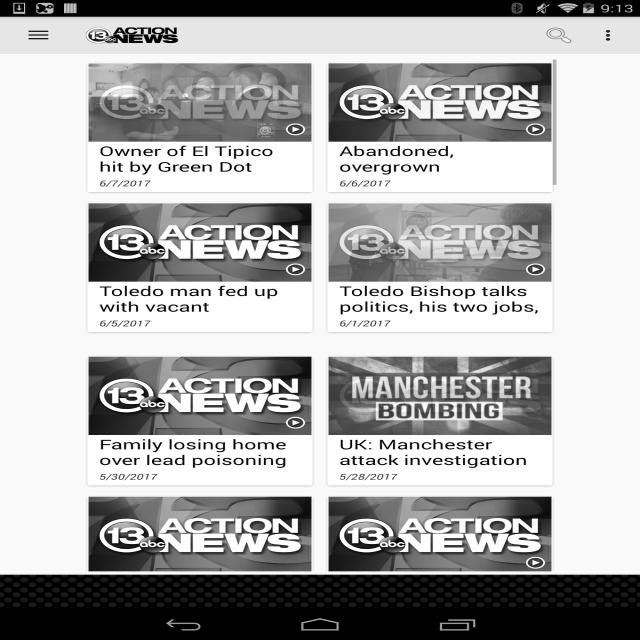ImageButton: (9, 17, 68, 54)
ImageView: (88, 63, 312, 142), (328, 63, 552, 142), (88, 203, 312, 282), (328, 203, 552, 282), (88, 357, 312, 435), (328, 357, 552, 435), (88, 497, 312, 575), (328, 497, 552, 575), (85, 28, 178, 44), (589, 19, 631, 52), (280, 120, 312, 140), (520, 120, 552, 140), (280, 260, 312, 280), (520, 260, 552, 280), (280, 412, 312, 432), (520, 552, 552, 572)
TextView: (99, 142, 301, 175), (339, 142, 541, 175), (99, 282, 301, 315), (339, 282, 541, 315), (99, 435, 301, 468), (339, 435, 541, 468), (529, 19, 589, 52), (100, 468, 158, 485), (340, 468, 398, 485), (100, 175, 150, 191), (340, 175, 390, 191), (100, 315, 150, 331), (340, 315, 390, 331)
